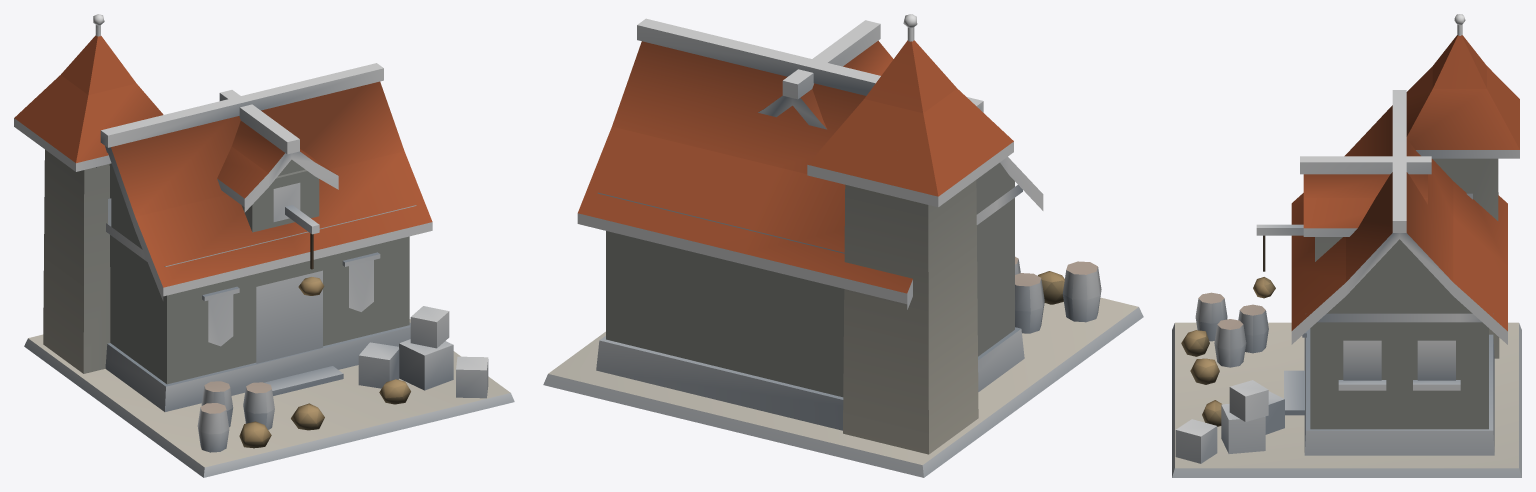
File: storehouse_t4.glb
3 views of the same model, side by side, from view 1: azimuth 30°, elevation 25°; view 2: azimuth 150°, elevation 25°; view 3: azimuth 270°, elevation 25° (orthographic). The views are drawn at different scales.
Visible parts, largest first — view 1: storehouse_t4; view 2: storehouse_t4; view 3: storehouse_t4.
Boxes of the visible parts, x1,y1,x2,y2 form: storehouse_t4: (14,14,514,477); storehouse_t4: (543,14,1143,477); storehouse_t4: (1172,14,1521,477).
Size of the model in its own units: 1.93 by 1.97 by 1.86.
